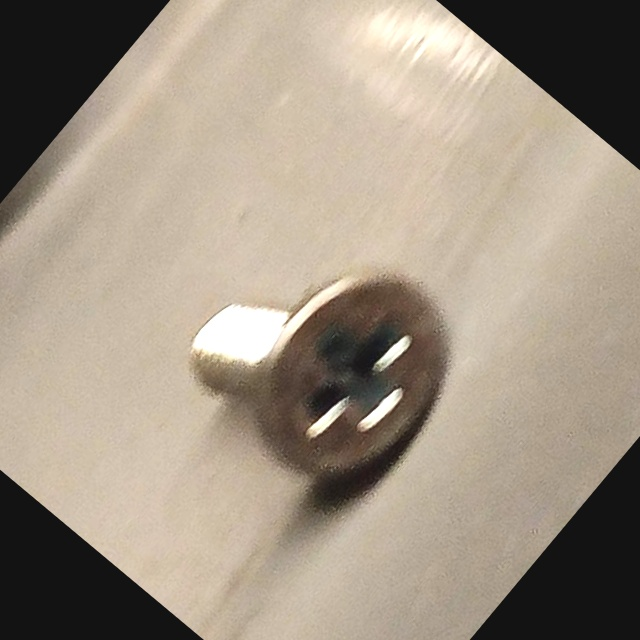phillips: (215, 238, 488, 518)
